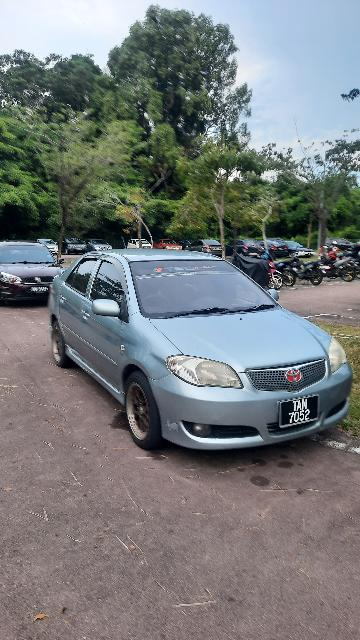License_Plate: (270, 393, 329, 432)
car: (50, 242, 354, 458)
